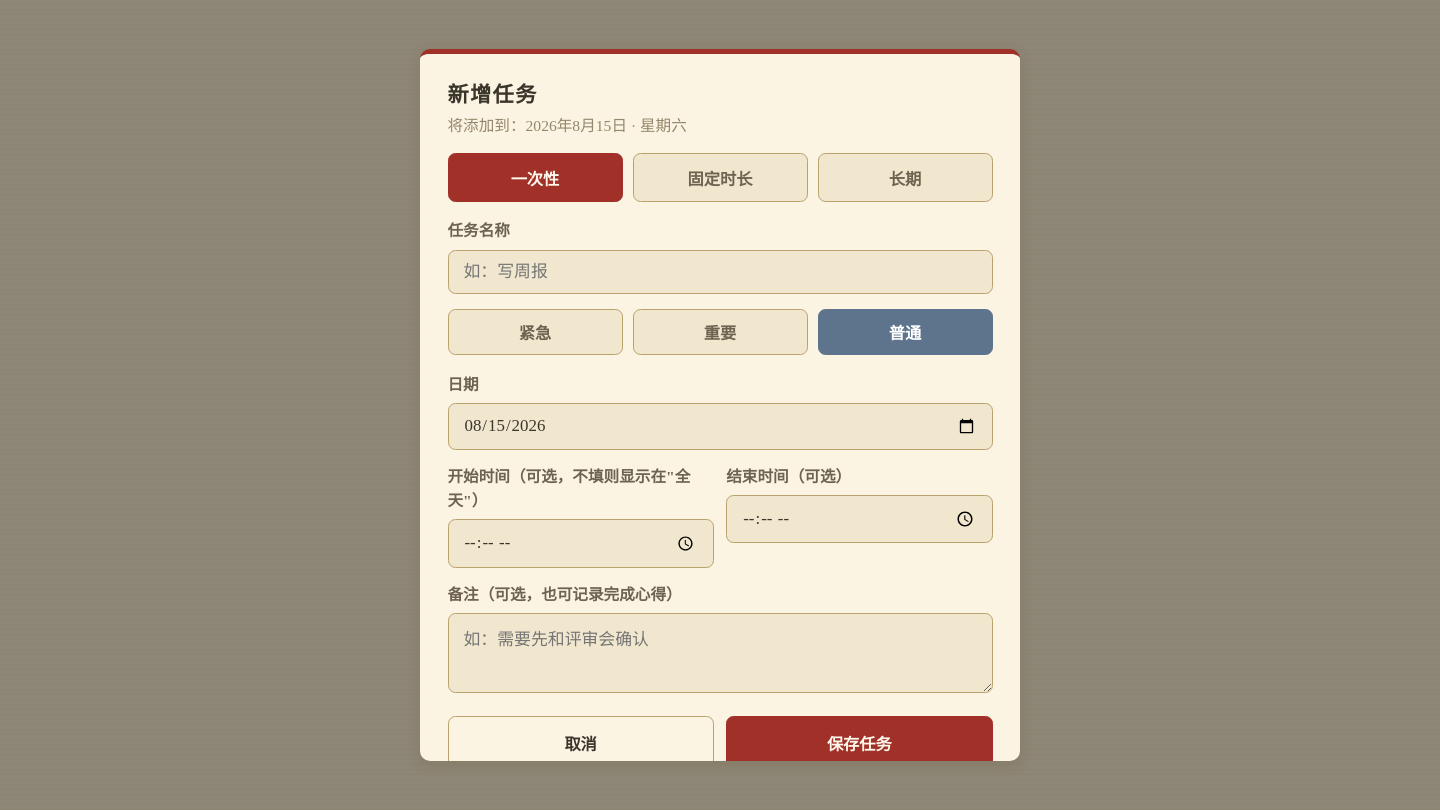
TaskFormModal 新增/编辑/校验 › 一次性：结束时间不晚于开始时报错
Type "测试" into the field with id "fTitle".
click(720, 272); type("测试")  # box [448, 250, 992, 294]
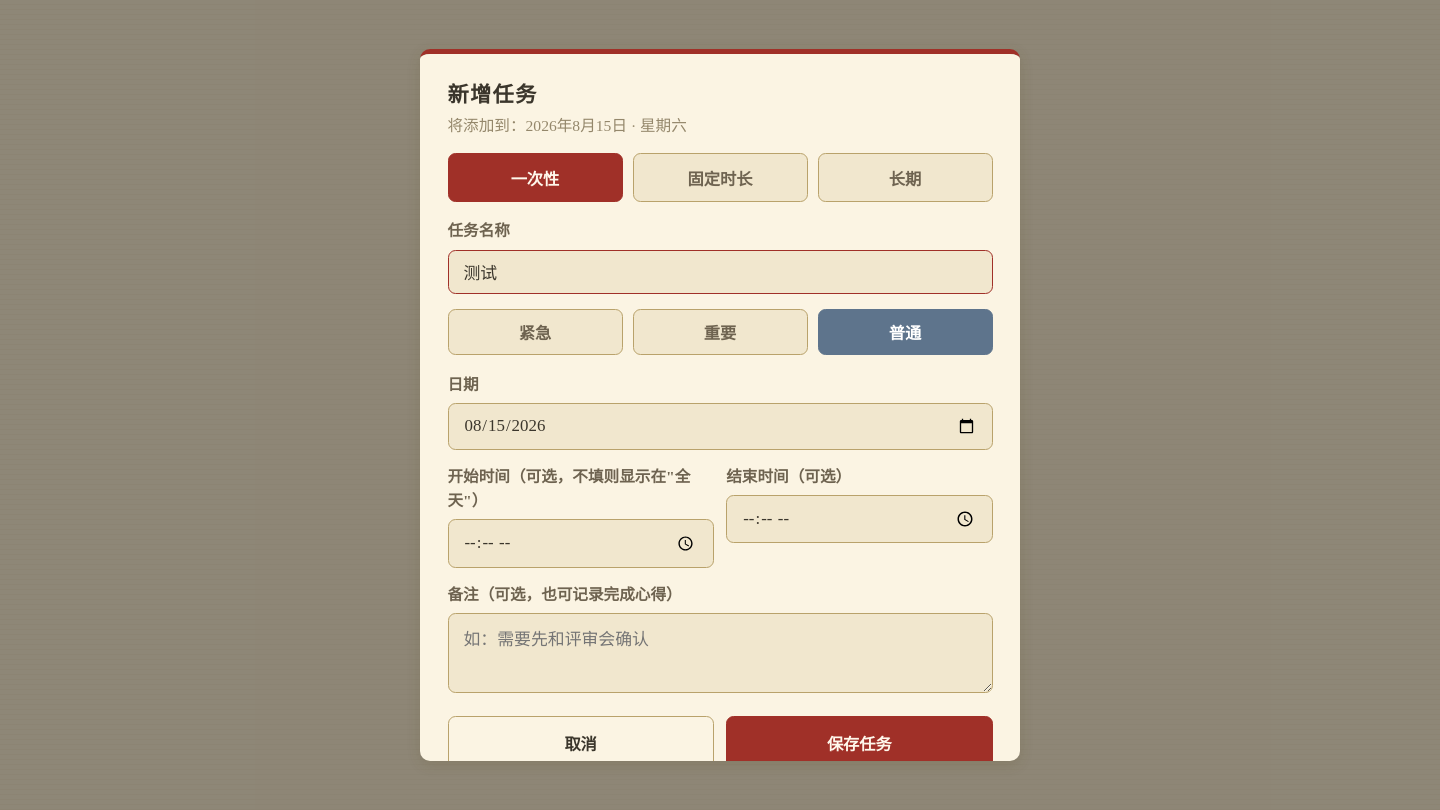
Type "10:00" into the time field with id "fOnceStart".
click(581, 544); type("10:00")  # box [448, 519, 714, 568]
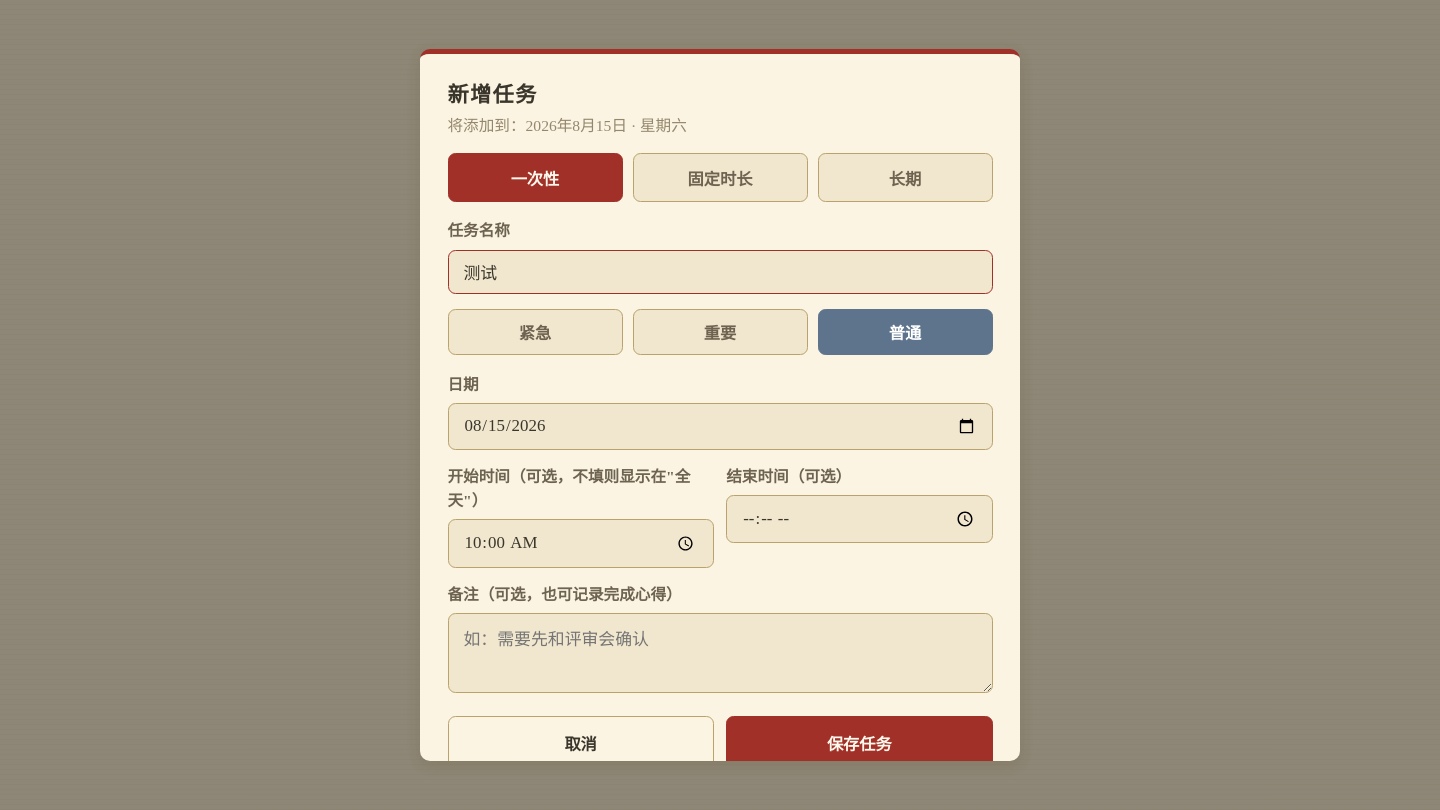
Type "09:00" into the time field with id "fOnceEnd".
click(859, 519); type("09:00")  # box [726, 495, 993, 543]
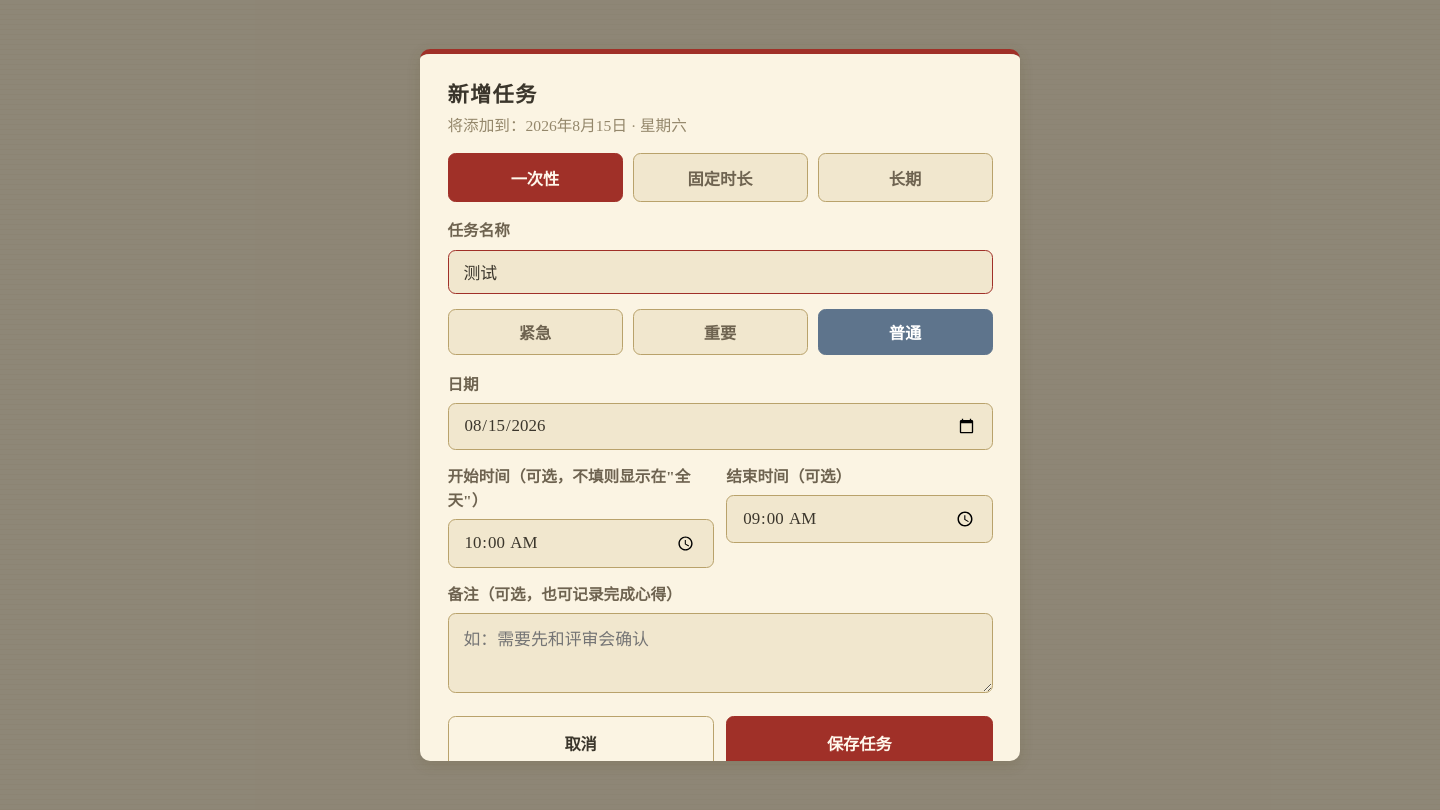
Click the button "保存任务".
click(859, 743)  # box [726, 716, 993, 770]
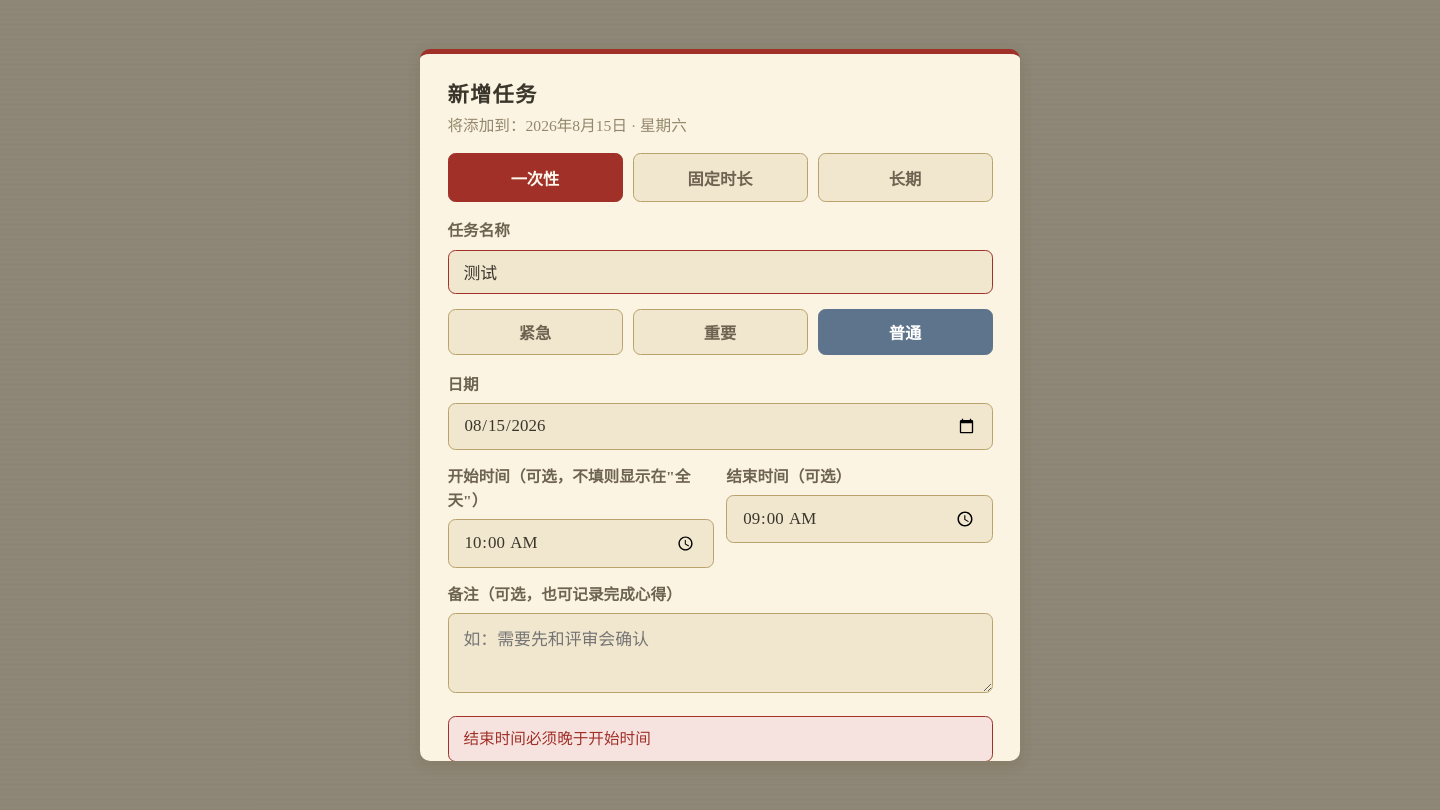
Expected: the message with class "form-error" reads "结束时间必须晚于开始时间", [464, 730, 651, 747]
